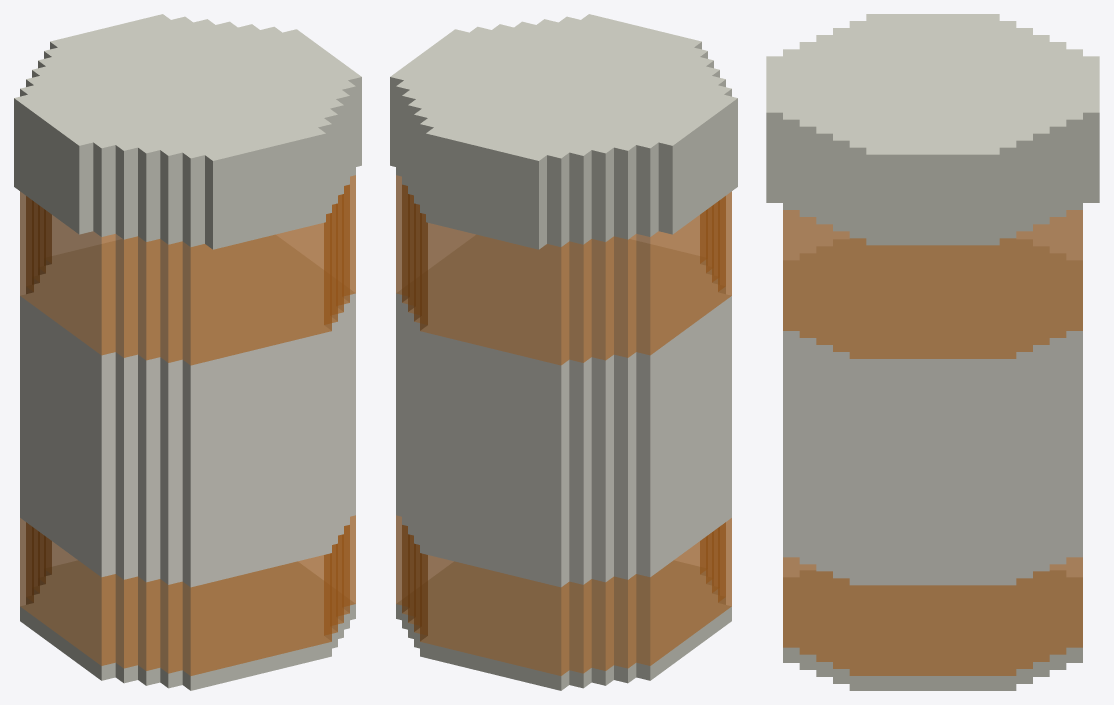
The model's file is oxycodone.glb.
3 views of the same model, side by side, from view 1: azimuth 30°, elevation 25°; view 2: azimuth 150°, elevation 25°; view 3: azimuth 270°, elevation 25° (orthographic). The views are drawn at different scales.
Parts seen in each view (by area): view 1: oxycodone:vessel; view 2: oxycodone:vessel; view 3: oxycodone:vessel.
Part boxes in pixels (x1,y1,x2,y2): oxycodone:vessel: [14, 14, 361, 690]; oxycodone:vessel: [390, 14, 737, 690]; oxycodone:vessel: [766, 14, 1099, 690].
Size of the model in its own units: 0.04 by 0.072 by 0.04.
